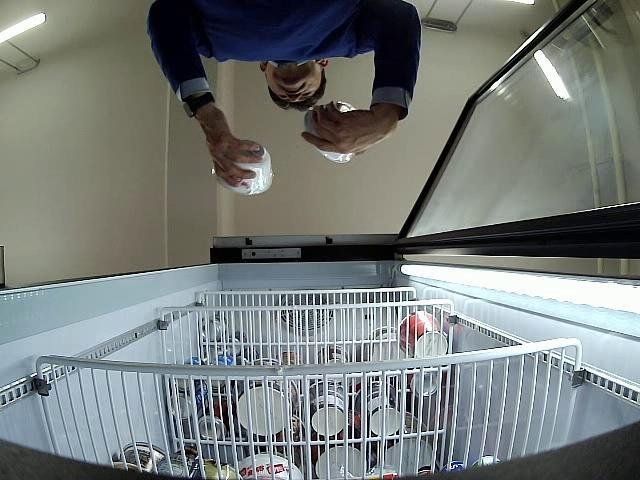09_yukGaeJang: (304, 101, 356, 164), (213, 141, 273, 195)
